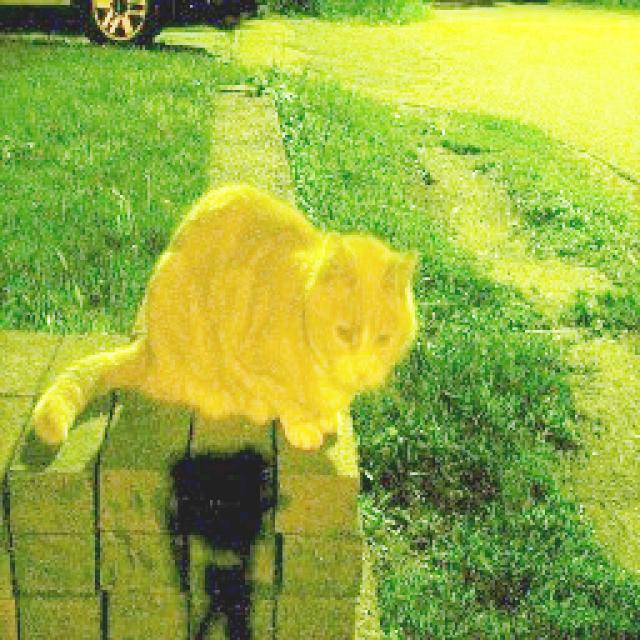cat: (38, 150, 457, 458)
